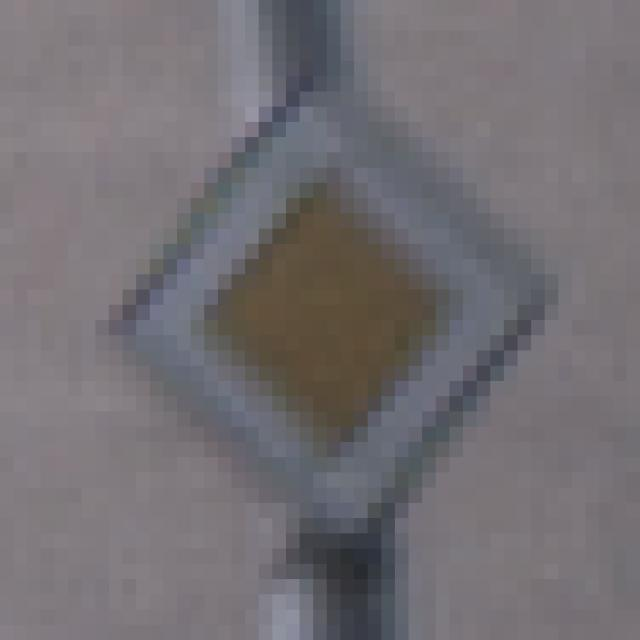Main Road: (83, 77, 573, 565)
